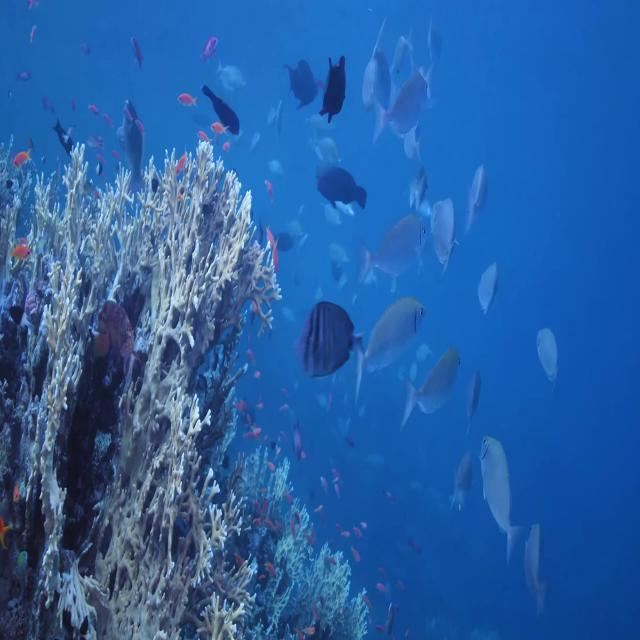fish: (354, 296, 428, 397), (354, 204, 432, 282), (481, 432, 523, 564), (298, 300, 364, 373), (405, 348, 462, 424), (319, 54, 352, 125), (318, 170, 364, 210), (478, 320, 478, 320)
